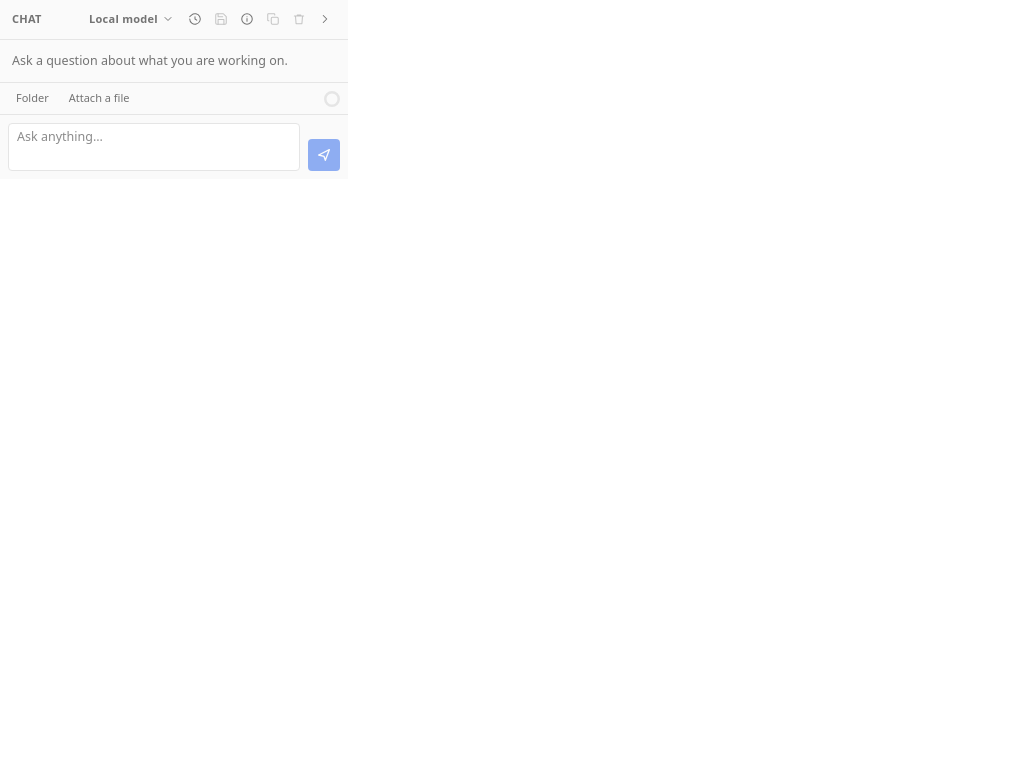
chat statistics › says the token counts cover every request, and shows what the last one sent
Click the button named "Chat statistics" at (247, 19), box [236,8,258,30]
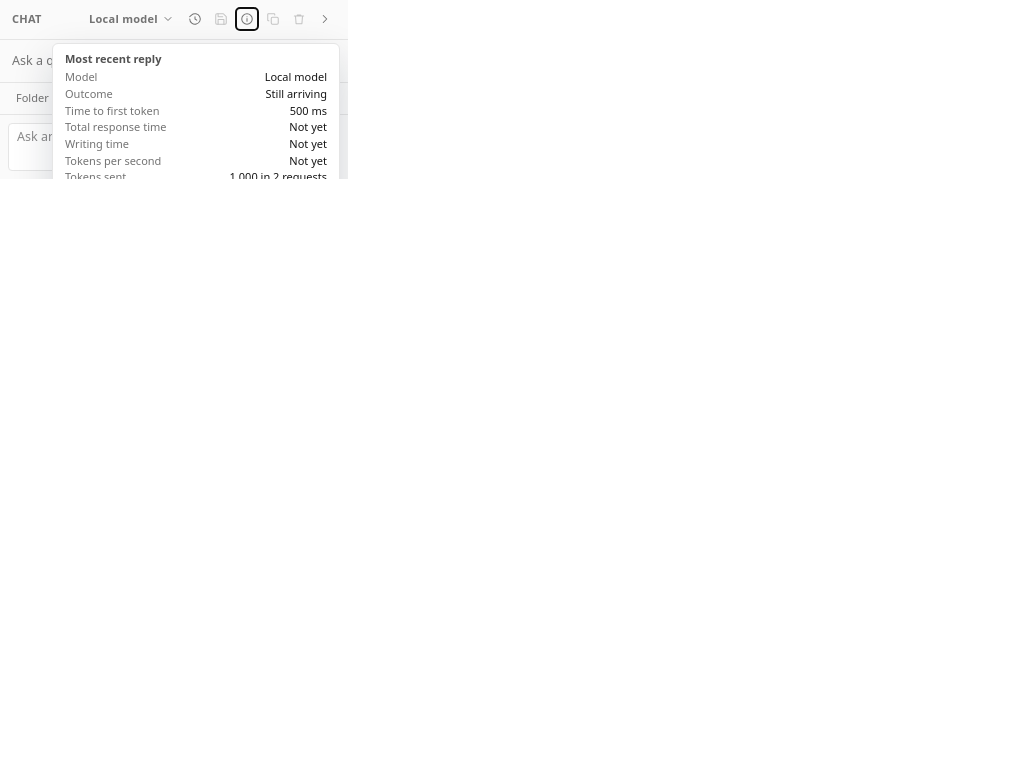
Check: the text "1,000 in 2 requests" is shown, box [230,169,327,179]
